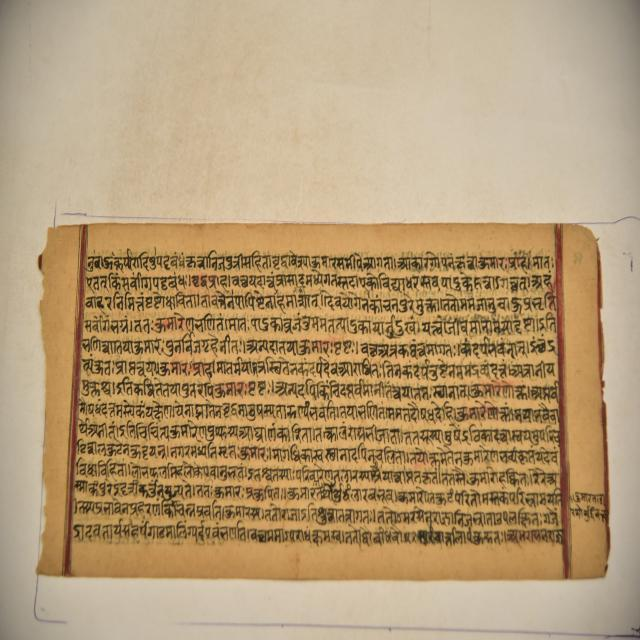text_paragraph: (40, 223, 609, 578)
